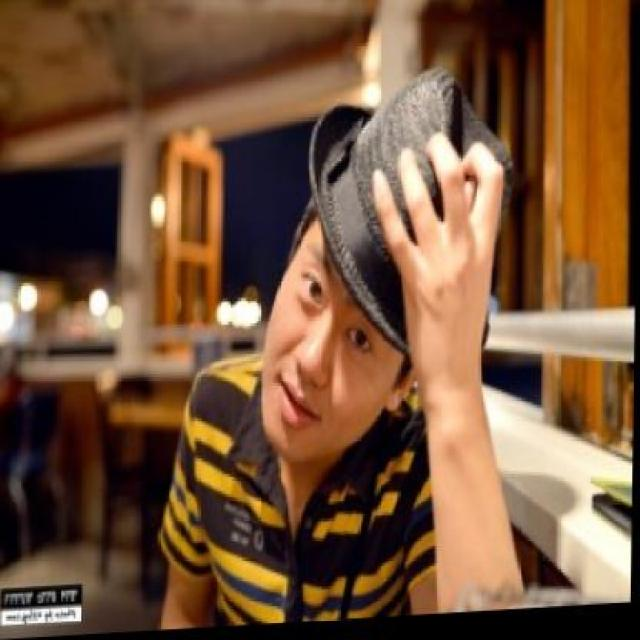hat: (306, 70, 514, 368)
